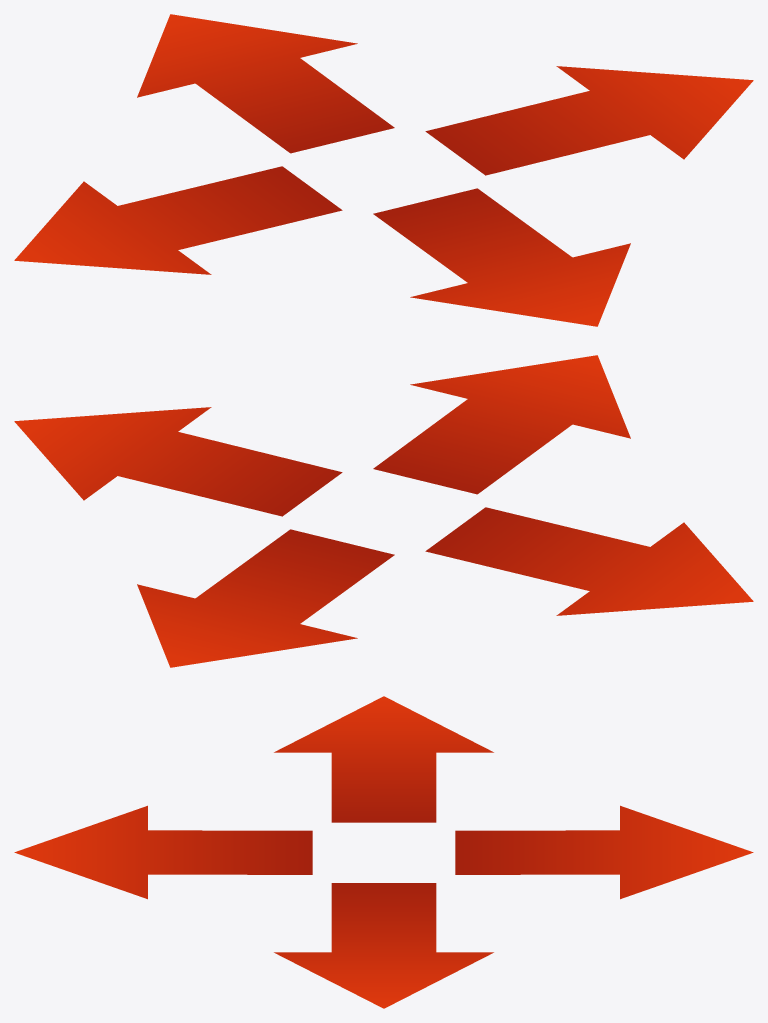
File: cameraMove.fbx
3 views of the same model, one above another, from view 1: azimuth 30°, elevation 25°; view 2: azimuth 150°, elevation 25°; view 3: azimuth 270°, elevation 25° (orthographic). The views are drawn at different scales.
Visible parts, largest first — view 1: MoveCamera; view 2: MoveCamera; view 3: MoveCamera.
Part boxes in pixels (box(x1,y1,x2,y2)): MoveCamera: box(14, 14, 753, 326); MoveCamera: box(14, 355, 753, 667); MoveCamera: box(14, 696, 753, 1008).
Bounding box in the file's own units: 0.0153 × 8.12e-06 × 0.0153.
